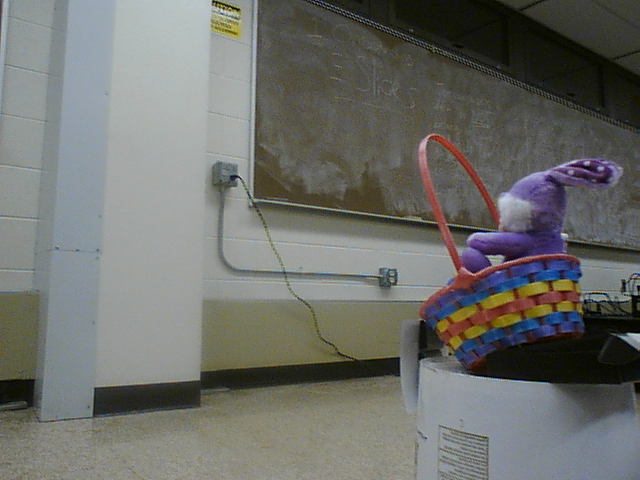bunny: (412, 125, 615, 373)
